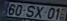0: (14, 3, 23, 16), (46, 7, 55, 19)
1: (55, 7, 60, 20)
6: (8, 3, 15, 15)
S: (25, 4, 35, 17)
X: (33, 5, 44, 18)
